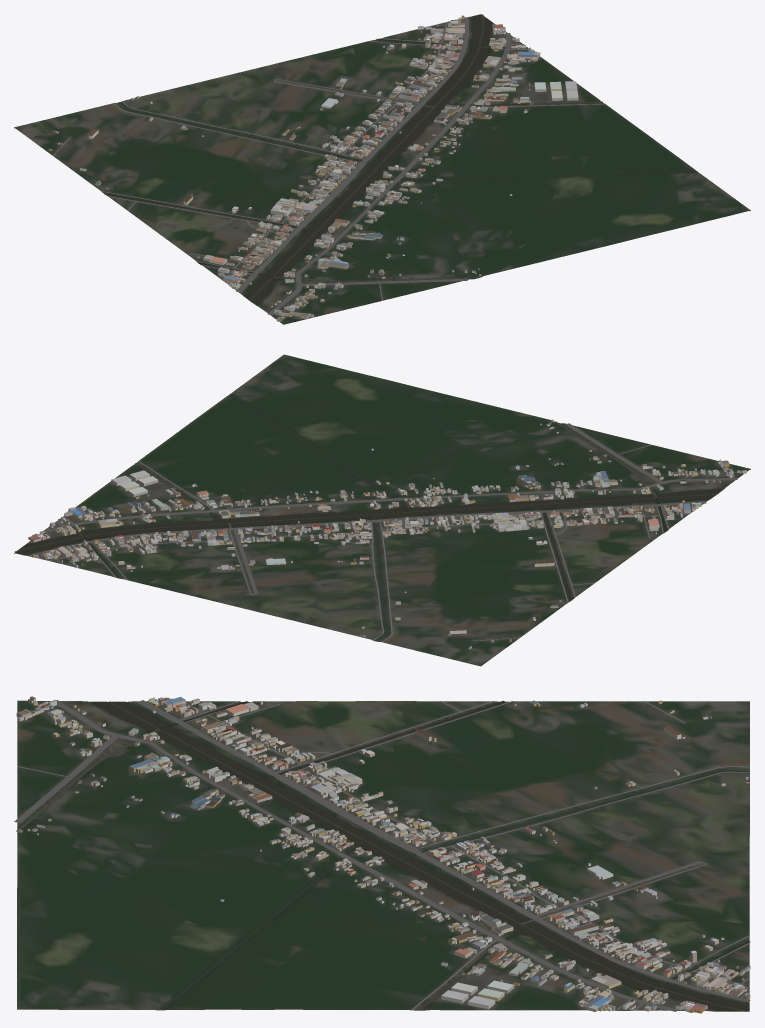
3 renders of one model, top to bottom at view 1: azimuth 30°, elevation 25°; view 2: azimuth 150°, elevation 25°; view 3: azimuth 270°, elevation 25°, orthographic. The views are drawn at different scales.
Visible parts, largest first — view 1: ground, buildings, water, roads; view 2: ground, buildings, water, roads; view 3: ground, buildings, water, roads.
Boxes of the visible parts, box(x1,y1,x2,y2) form: ground: box(14, 14, 750, 324); buildings: box(48, 15, 578, 321); water: box(104, 14, 697, 305); roads: box(52, 17, 605, 315); ground: box(14, 354, 750, 666); buildings: box(28, 419, 746, 649); water: box(14, 393, 723, 641); roads: box(28, 423, 737, 642); ground: box(17, 700, 749, 1011); buildings: box(16, 696, 750, 1013); water: box(16, 700, 750, 1011); roads: box(14, 700, 750, 1011).
Size of the model in its own units: 1417 by 26 by 1409.
